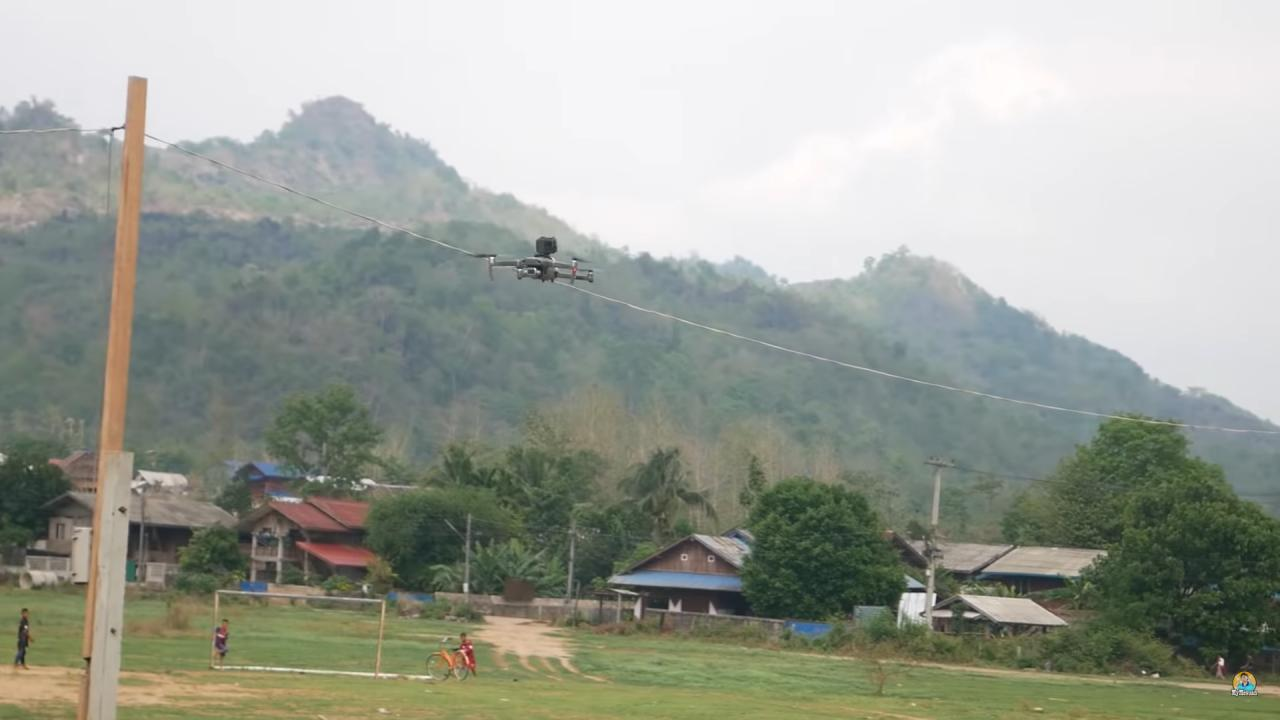Drone: (461, 227, 600, 294)
